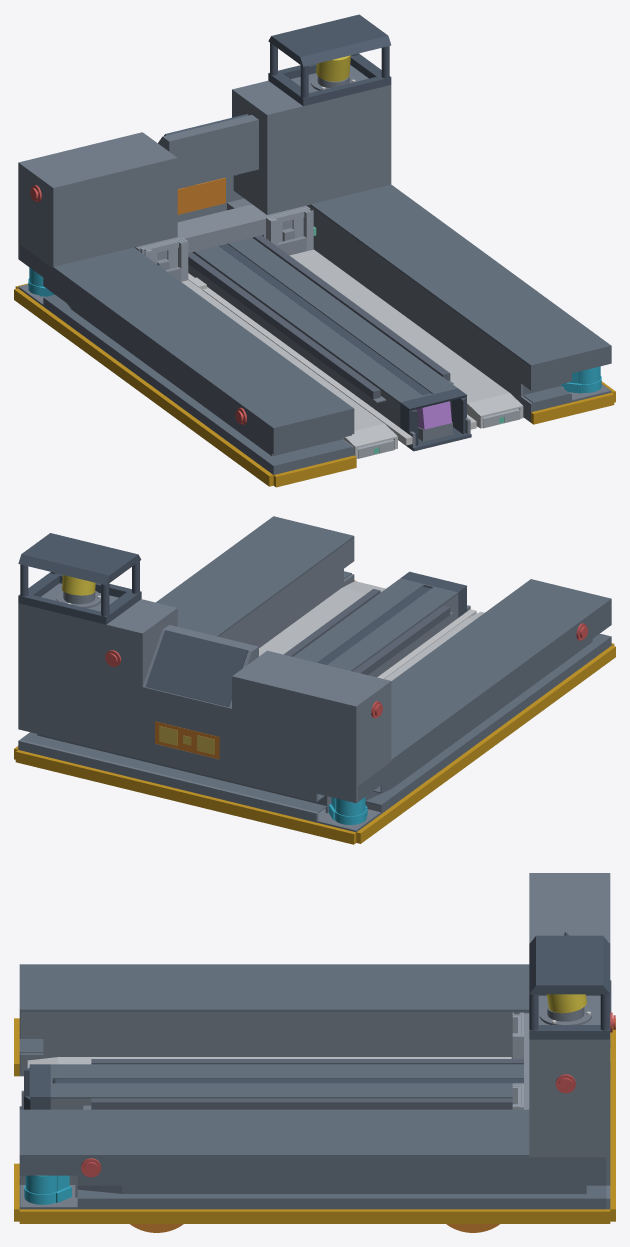
Rendered from hd30x_1500kg_scissor.glb.
3 views of the same model, one above another, from view 1: azimuth 30°, elevation 25°; view 2: azimuth 150°, elevation 25°; view 3: azimuth 270°, elevation 25° (orthographic). The views are drawn at different scales.
Visible parts, largest first — view 1: pod_top_L, pod_top_R, tower_front_L, spine_top_6t, tower_front_R, pod_wall_in_L, fork_weigh_shoe_L, pod_skin_R_up, hmi_open_console_4t, tower_deck_R_6t, bumper_side_R, tower_armor_roof_8t (+27 smaller); view 2: tower_rear_plate_up_10t, pod_top_R, pod_top_L, pod_skin_R_up, spine_top_6t, rear_hmi_10in, pod_wall_in_L, bumper_rear, tower_deck_R_6t, bumper_side_R, tower_armor_roof_8t, tower_rear_plate_low_10t (+22 smaller); view 3: pod_top_L, pod_top_R, pod_wall_in_R, pod_skin_L_up, spine_top_6t, bumper_side_L, tower_door_L, pod_skin_L_low, tower_deck_R_6t, drag_chain_L, tower_armor_roof_8t, pod_skin_L_waist (+14 smaller).
Boxes of the visible parts, <box> form: pod_top_L: <box>310,184,611,366</box>; pod_top_R: <box>53,247,354,429</box>; tower_front_L: <box>266,86,391,213</box>; spine_top_6t: <box>181,213,457,403</box>; tower_front_R: <box>53,159,177,266</box>; pod_wall_in_L: <box>307,205,532,419</box>; fork_weigh_shoe_L: <box>289,249,523,428</box>; pod_skin_R_up: <box>20,244,272,452</box>; hmi_open_console_4t: <box>158,115,258,188</box>; tower_deck_R_6t: <box>18,132,177,189</box>; bumper_side_R: <box>14,288,273,486</box>; tower_armor_roof_8t: <box>268,14,391,66</box>; tower_rear_plate_up_10t: <box>18,605,357,803</box>; pod_top_R: <box>391,579,611,761</box>; pod_top_L: <box>156,516,354,636</box>; pod_skin_R_up: <box>358,601,610,801</box>; spine_top_6t: <box>293,578,458,671</box>; rear_hmi_10in: <box>145,630,248,706</box>; pod_wall_in_L: <box>219,538,353,647</box>; bumper_rear: <box>15,750,356,844</box>; tower_deck_R_6t: <box>232,650,391,708</box>; bumper_side_R: <box>356,645,615,843</box>; tower_armor_roof_8t: <box>18,533,141,585</box>; tower_rear_plate_low_10t: <box>18,739,357,832</box>; pod_top_L: <box>19,1109,529,1157</box>; pod_top_R: <box>19,964,529,1011</box>; pod_wall_in_R: <box>21,1012,529,1073</box>; pod_skin_L_up: <box>21,1157,606,1184</box>; spine_top_6t: <box>50,1064,523,1098</box>; bumper_side_L: <box>19,1209,610,1223</box>; tower_door_L: <box>530,1041,606,1154</box>; pod_skin_L_low: <box>21,1200,606,1209</box>; tower_deck_R_6t: <box>529,873,610,943</box>; drag_chain_L: <box>91,1098,512,1109</box>; tower_armor_roof_8t: <box>529,935,610,994</box>; pod_skin_L_waist: <box>77,1185,585,1193</box>.
Bounding box in the file's own units: 1.2 × 0.76 × 1.56.
